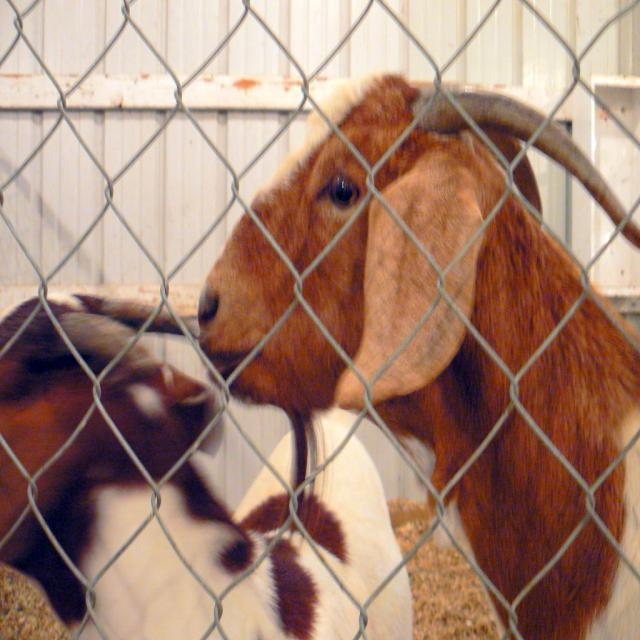Goat: (197, 70, 640, 638), (1, 291, 414, 638)
